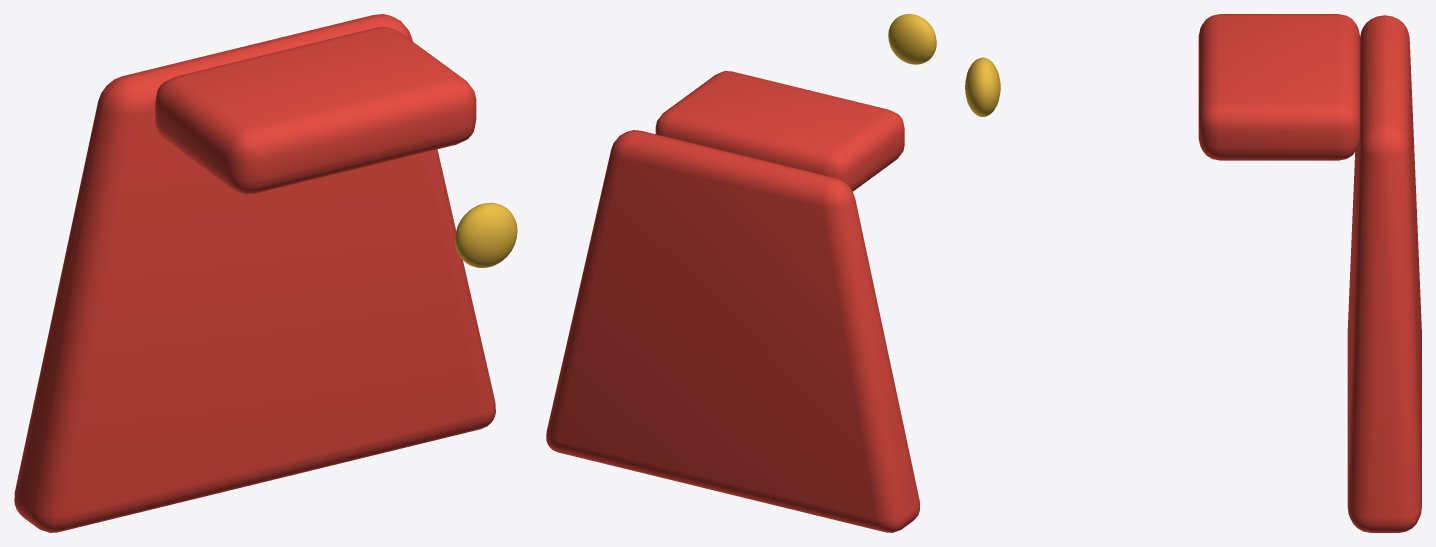
The model's file is part_cape.glb.
3 views of the same model, side by side, from view 1: azimuth 30°, elevation 25°; view 2: azimuth 150°, elevation 25°; view 3: azimuth 270°, elevation 25° (orthographic). The views are drawn at different scales.
Parts seen in each view (by area): view 1: Cape_Body, Cape_Collar, Cape_Clasp; view 2: Cape_Body, Cape_Collar, Cape_Clasp; view 3: Cape_Body, Cape_Collar, Cape_Clasp.
Boxes of the visible parts, bbox=[...] form: Cape_Body: bbox=[14, 14, 495, 532]; Cape_Collar: bbox=[155, 27, 476, 194]; Cape_Clasp: bbox=[455, 202, 517, 267]; Cape_Body: bbox=[546, 130, 919, 532]; Cape_Collar: bbox=[655, 71, 904, 191]; Cape_Clasp: bbox=[888, 14, 936, 64]; Cape_Body: bbox=[1347, 15, 1421, 532]; Cape_Collar: bbox=[1198, 14, 1359, 160]; Cape_Clasp: bbox=[965, 57, 1000, 116].
Size of the model in its own units: 0.7449 by 0.68 by 0.7367.
